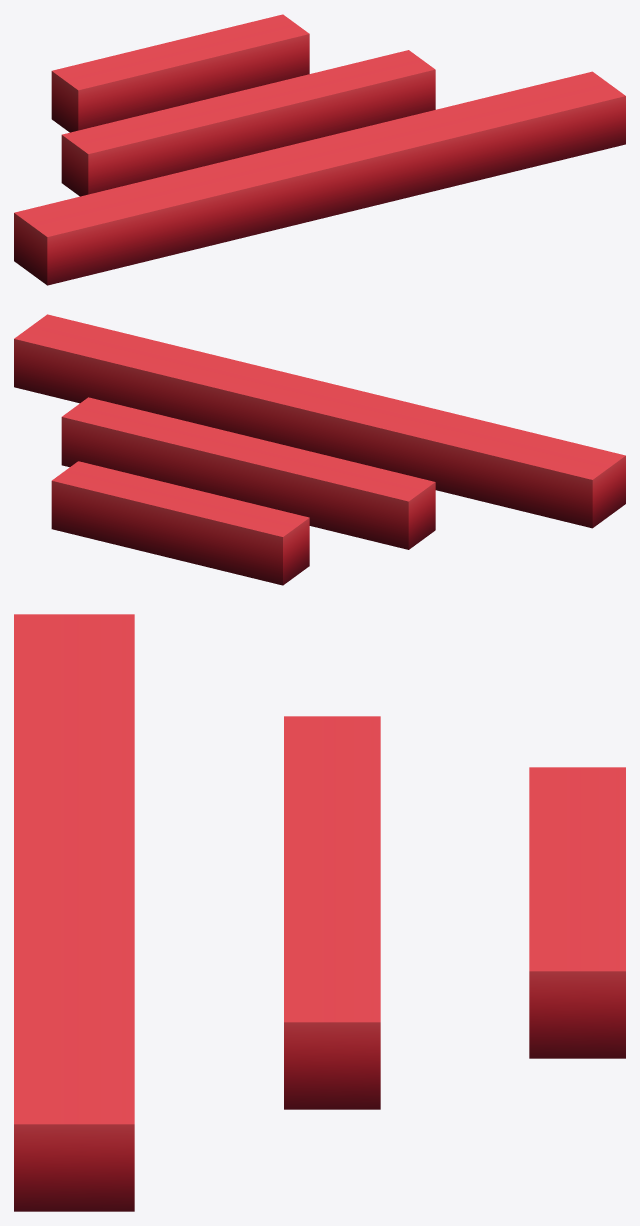
Rendered from Lazer_medium.fbx.
3 renders of one model, top to bottom at view 1: azimuth 30°, elevation 25°; view 2: azimuth 150°, elevation 25°; view 3: azimuth 270°, elevation 25°, orthographic. The views are drawn at different scales.
Parts seen in each view (by area): view 1: Plane.009, Plane.002, Plane.024; view 2: Plane.009, Plane.002, Plane.024; view 3: Plane.009, Plane.002, Plane.024.
Boxes of the visible parts, box(x1,y1,x2,y2) form: Plane.009: box(14, 71, 625, 285); Plane.002: box(61, 50, 435, 196); Plane.024: box(51, 14, 309, 132); Plane.009: box(14, 314, 625, 528); Plane.002: box(61, 397, 435, 549); Plane.024: box(51, 461, 309, 585); Plane.009: box(14, 614, 134, 1211); Plane.002: box(284, 716, 380, 1109); Plane.024: box(529, 767, 625, 1058).
Size of the model in its own units: 500 by 40 by 254.
